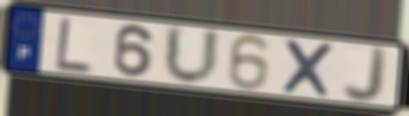6: (225, 33, 274, 92), (113, 23, 156, 79)
J: (340, 44, 391, 105)
L: (54, 14, 94, 75)
U: (162, 22, 223, 88)
X: (279, 37, 337, 100)
